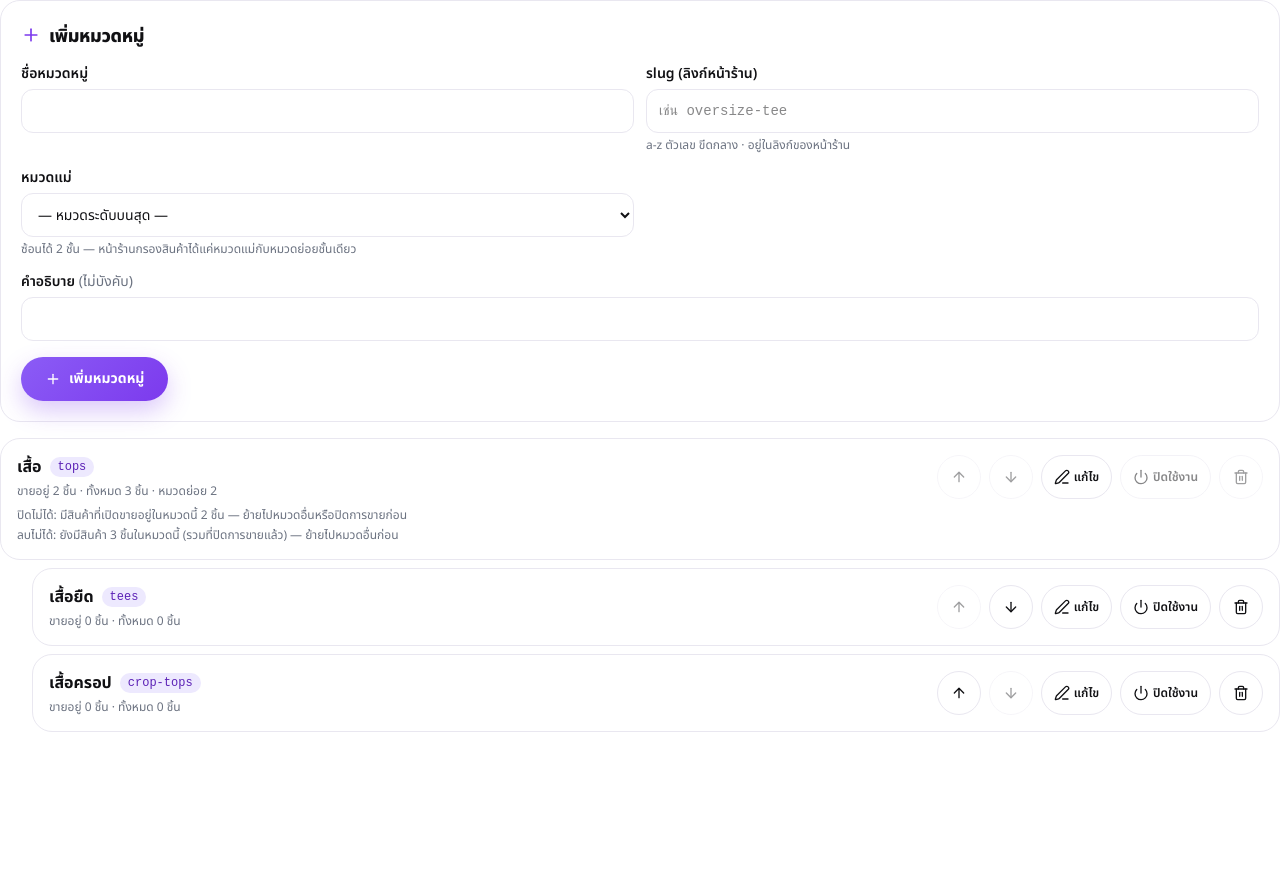
CatalogManager — หมวดหมู่และตัวเลือกสินค้า (STEP 48) › แก้ชื่อหมวดที่มีสินค้า → ช่อง slug ล็อกพร้อมเหตุผล และส่งไปแค่ชื่อ
Click the 1st button "แก้ไข": (1076, 477) [1041,455,1112,499]
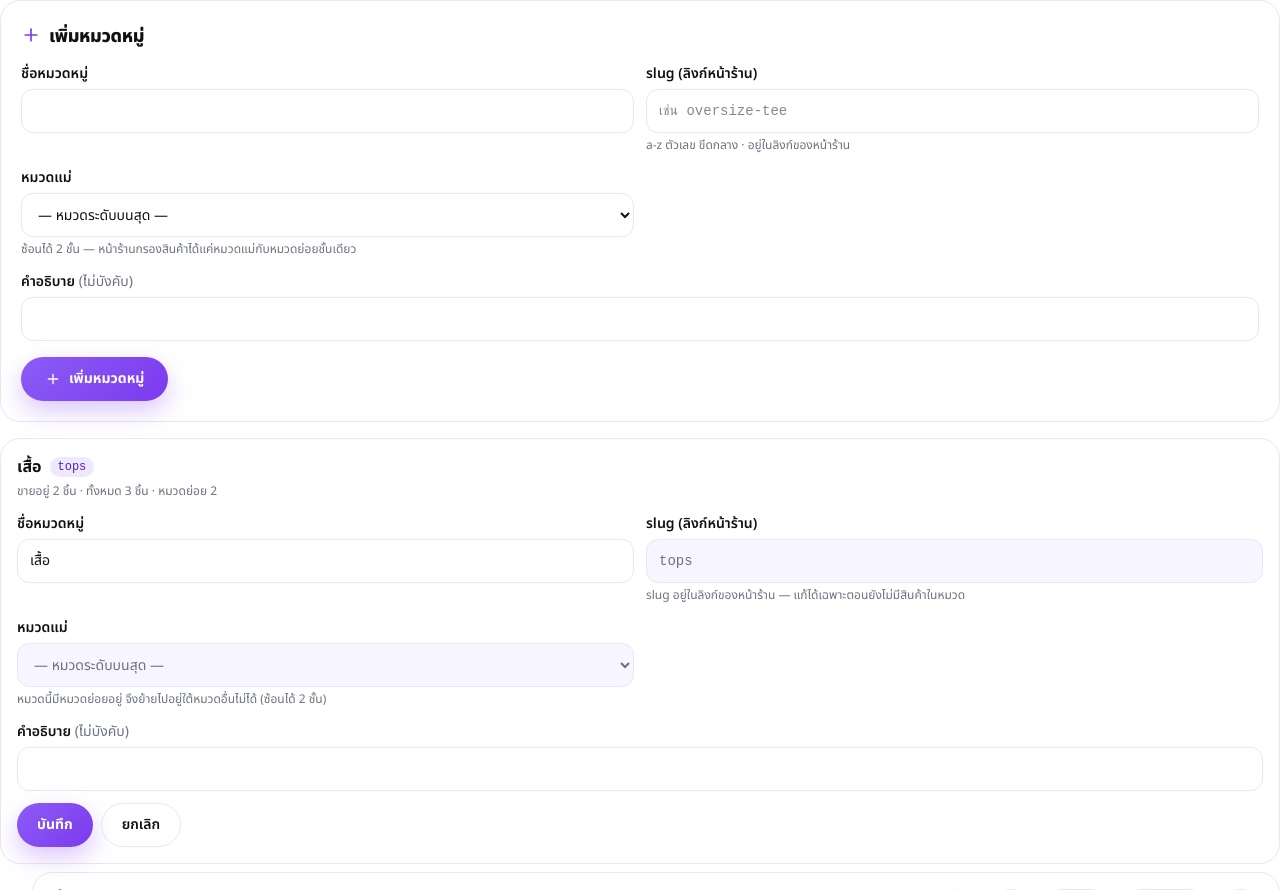
Result: the 2nd field labelled "slug (ลิงก์หน้าร้าน)" is disabled at [646,539,1263,583]
Result: the text "แก้ได้เฉพาะตอนยังไม่มีสินค้าในหมวด" is shown at [646,586,965,604]
Replace the text in the 2nd field labelled "ชื่อหมวดหมู่" with "เสื้อทุกแบบ": (326, 561) [17,539,634,583]
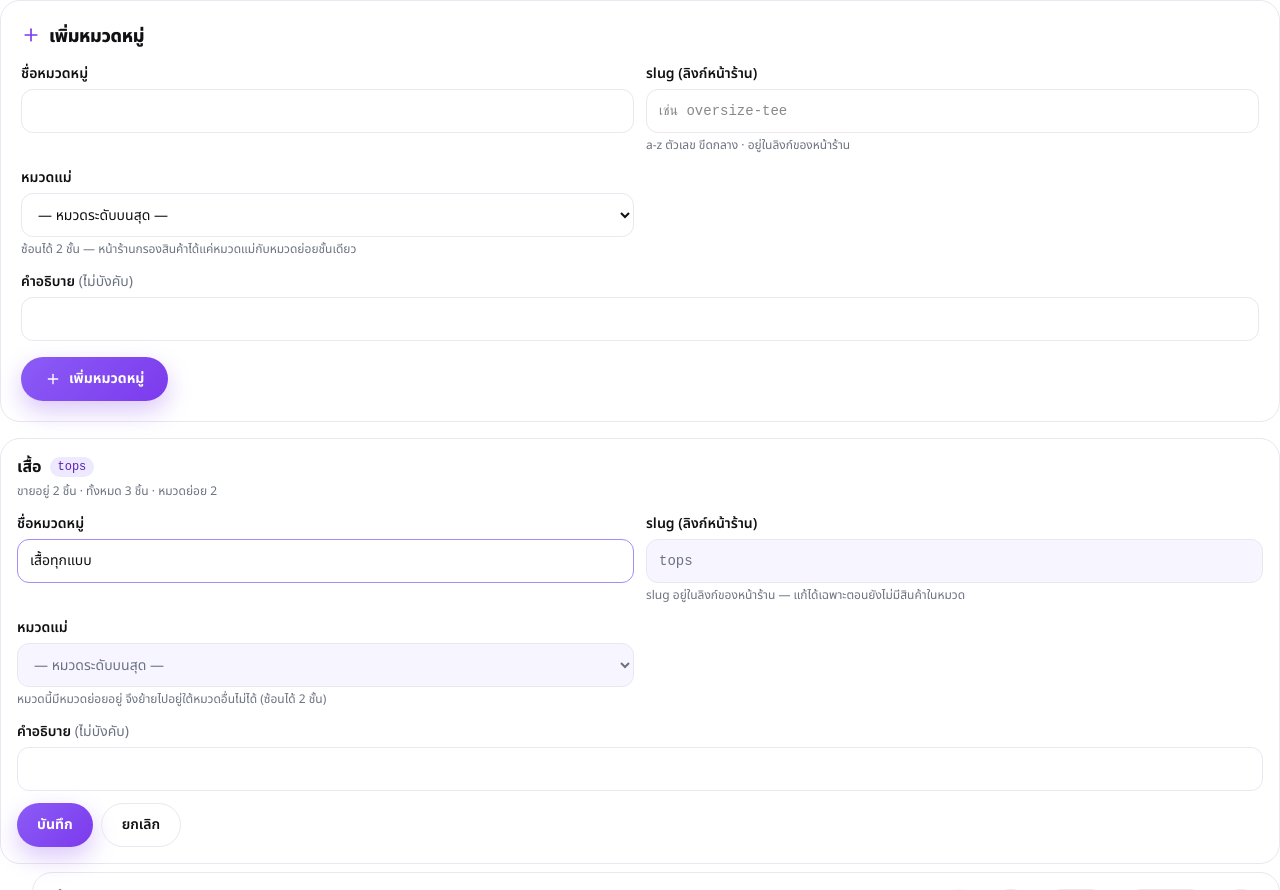
Click the button "บันทึก": (55, 825) [17,803,93,847]
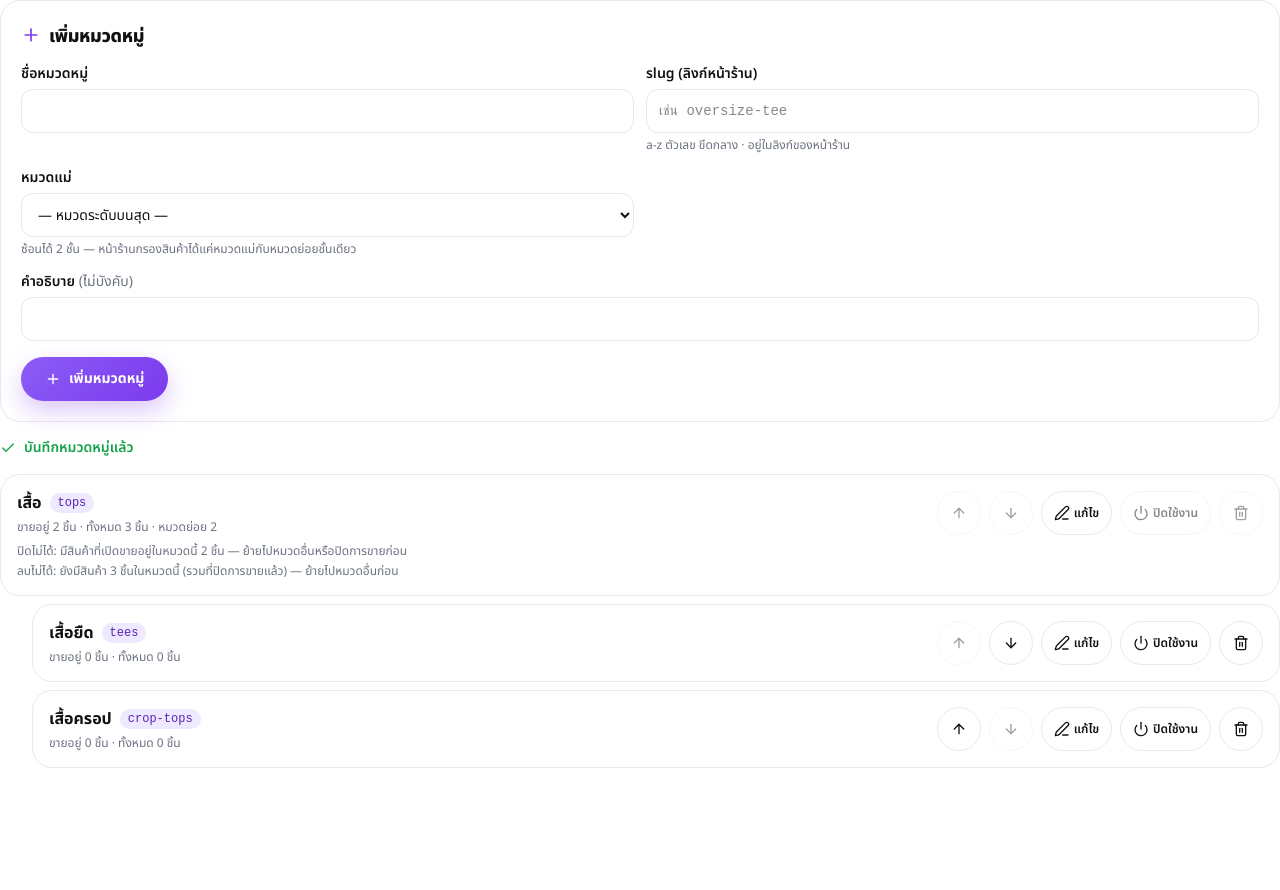
Result: the text "บันทึกหมวดหมู่แล้ว" is shown at [0,437,134,458]
